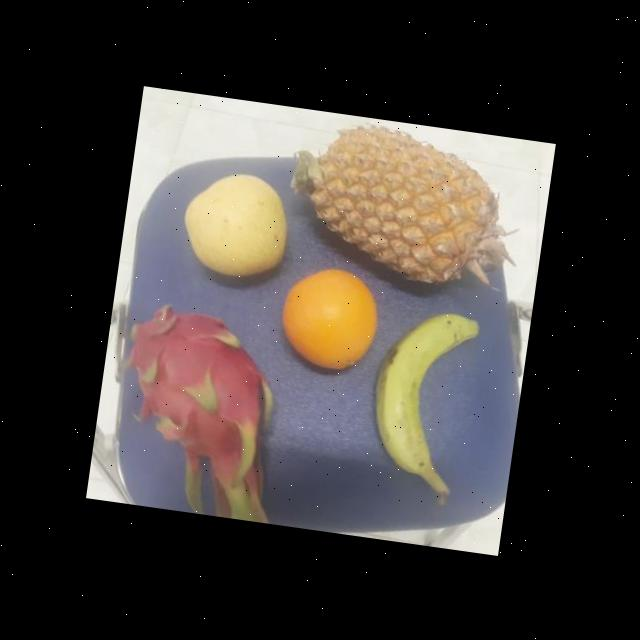banana: (360, 303, 480, 480)
guava: (173, 168, 294, 282), (270, 261, 384, 378)
pear: (271, 262, 385, 374)
pineapple: (287, 118, 508, 297)
pitaya: (107, 302, 290, 493)
